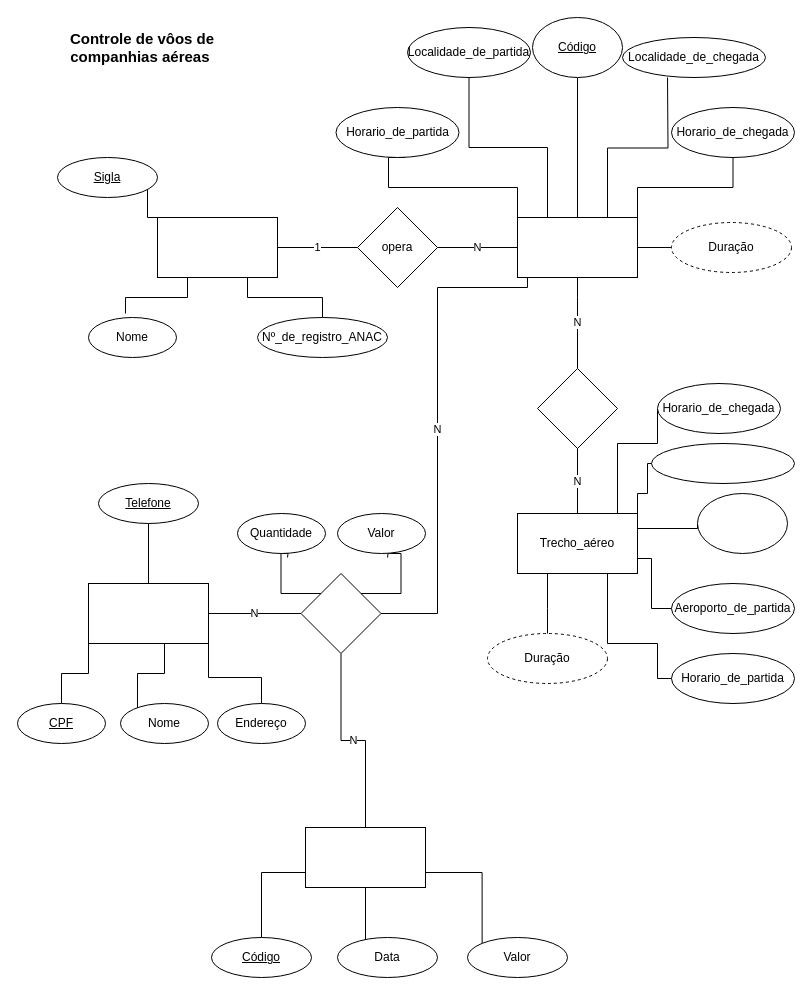
The diagram is 812 pixels wide and 995 high, and some of its shapes have lost their labels. The shapes that lost their labels are listed below. From the top down, each one's box as (x1, y1, x2, y2) in pixels, then its label:
(156, 216, 278, 278): Companhia_aérea
(516, 216, 638, 278): Voo
(536, 368, 618, 448): possui
(650, 442, 794, 484): Aeroporto_de_chegada
(696, 492, 788, 554): Número
(88, 582, 208, 644): Cliente
(300, 572, 381, 654): reserva
(304, 826, 426, 888): Pagamento
